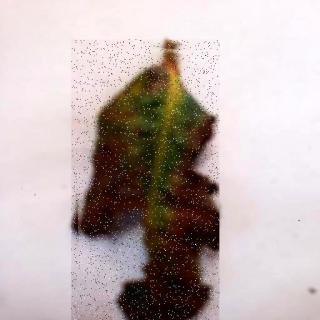Algal Leaf: (73, 40, 221, 320)
